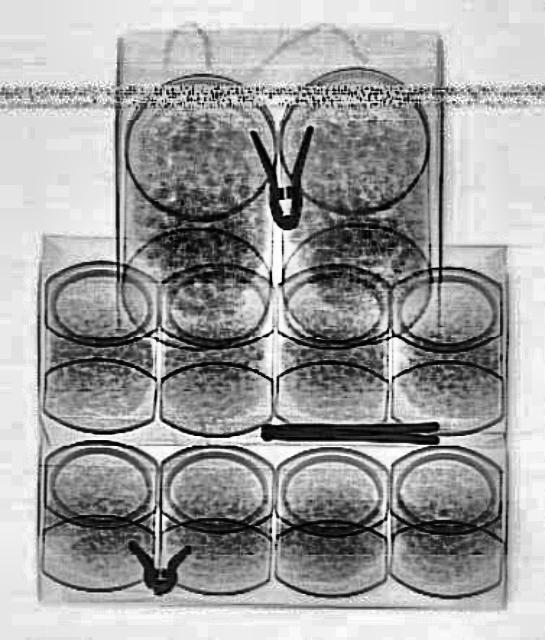Pliers: (250, 126, 314, 230), (261, 419, 437, 443)
